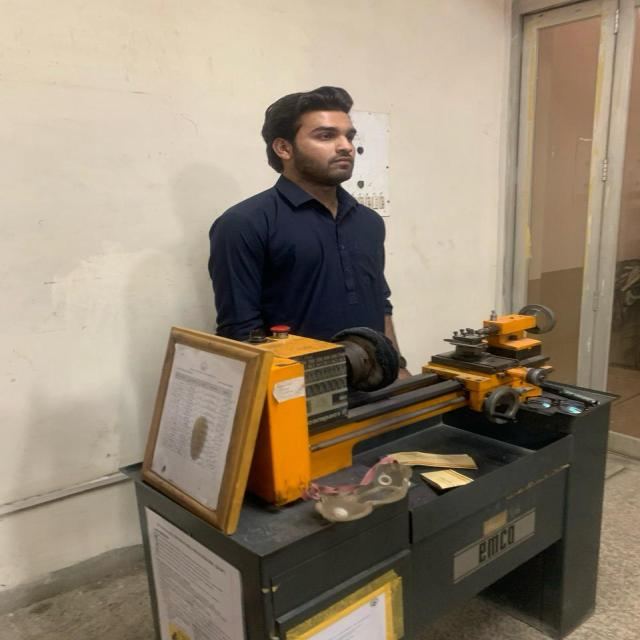dress: (205, 167, 400, 346)
